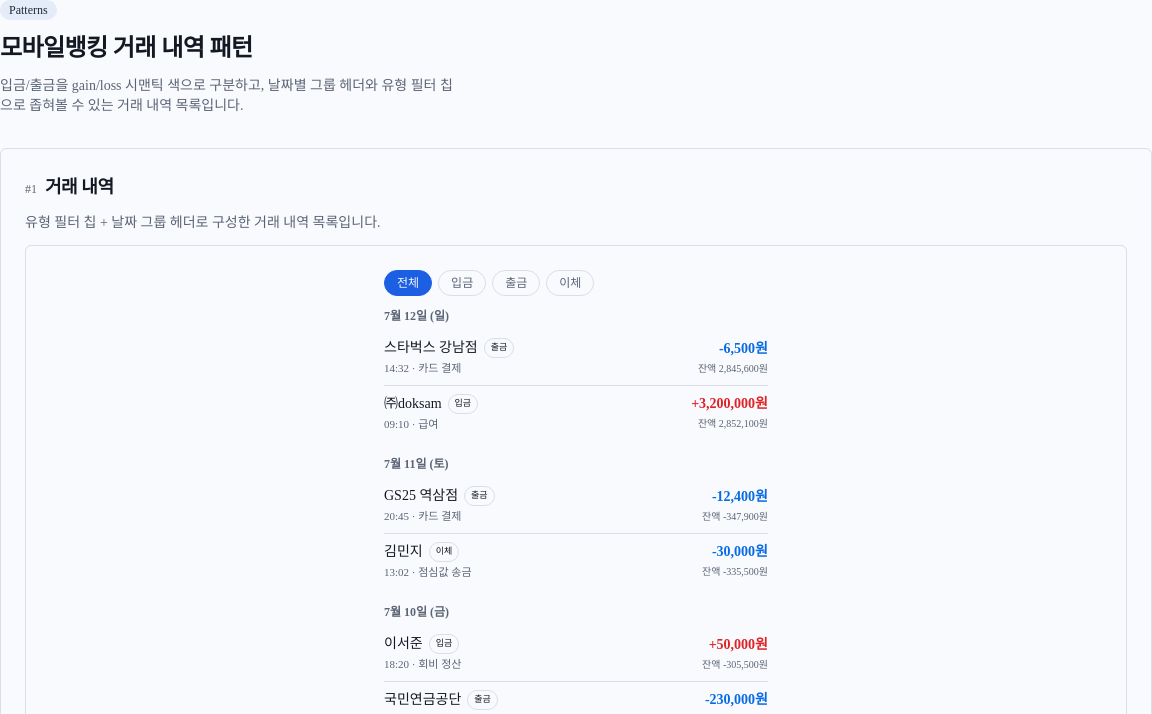
it: MobileBankingHistoryPatternsPage › filters the list down to a single transaction type
Click the button "입금" at (462, 283), box [438, 270, 486, 296]
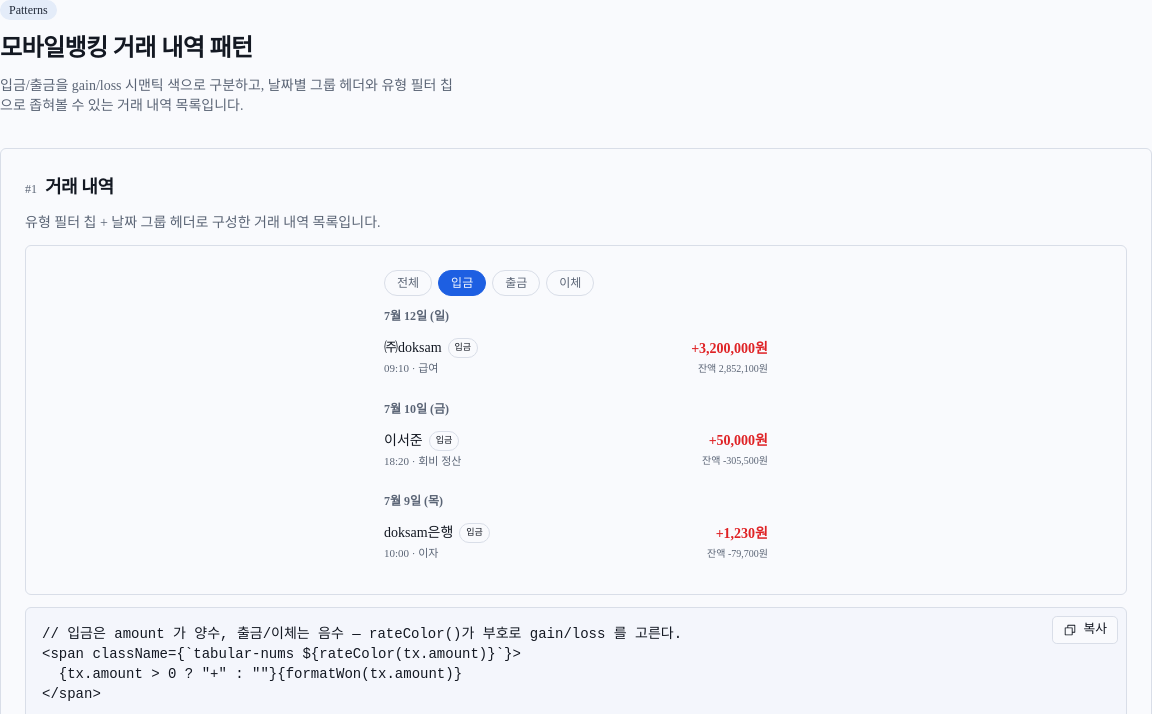
Expected: the text "㈜doksam" is shown, [384, 338, 442, 358]
Result: the text "스타벅스 강남점" is gone
